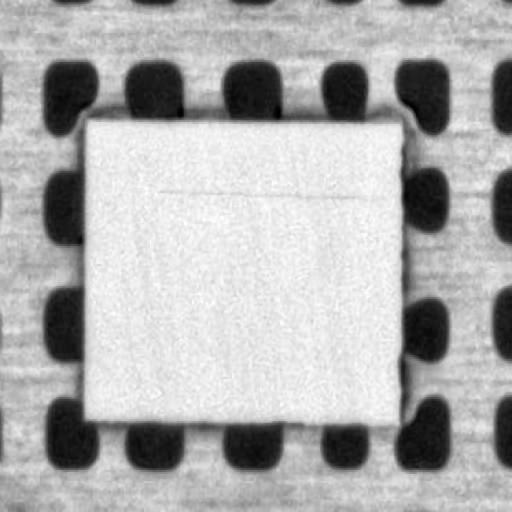DIE_CRACK: (210, 143, 508, 148)
